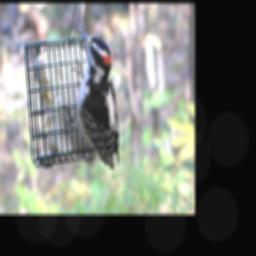Woodpecker: (62, 27, 119, 170)
